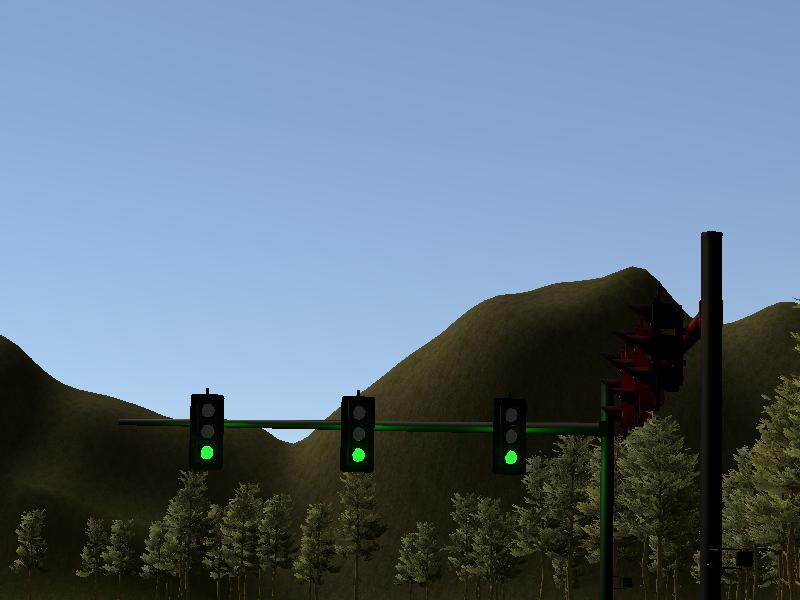Green: (342, 398, 373, 473), (493, 399, 523, 475), (192, 394, 221, 468)
